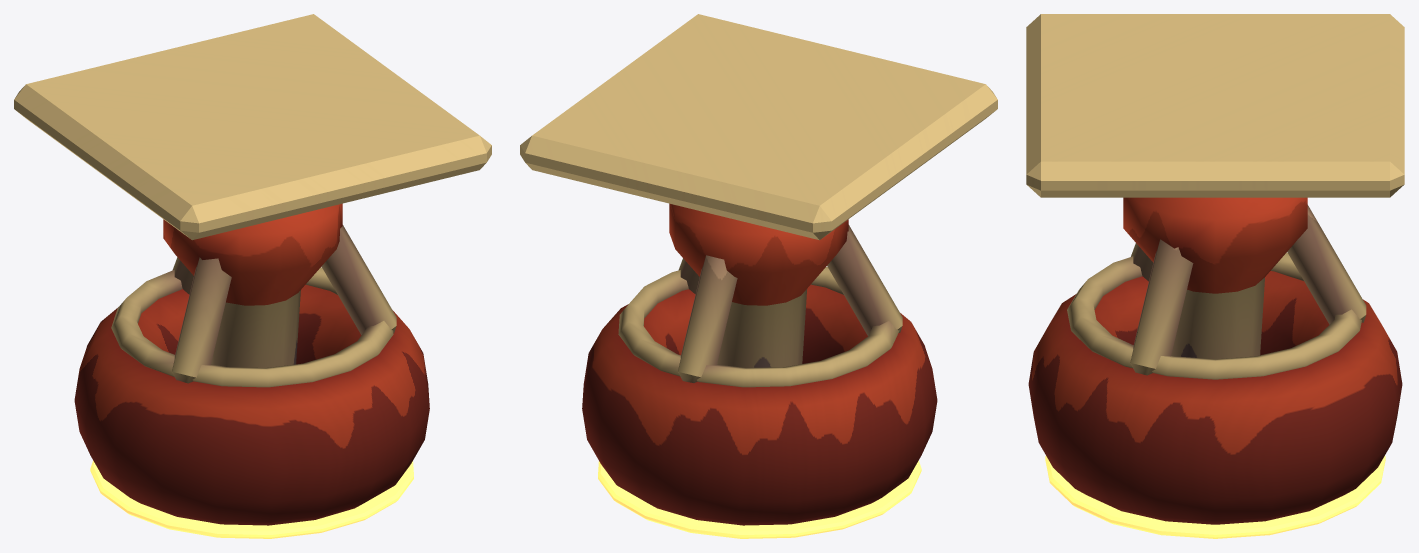
The model's file is R4M_HoverEngine_LOD1.glb.
3 renders of one model, left to right at view 1: azimuth 30°, elevation 25°; view 2: azimuth 150°, elevation 25°; view 3: azimuth 270°, elevation 25°, orthographic. The views are drawn at different scales.
Visible parts, largest first — view 1: R4M_HoverEngine_LOD1; view 2: R4M_HoverEngine_LOD1; view 3: R4M_HoverEngine_LOD1.
Boxes of the visible parts, x1,y1,x2,y2 form: R4M_HoverEngine_LOD1: (14, 14, 491, 538); R4M_HoverEngine_LOD1: (520, 14, 997, 538); R4M_HoverEngine_LOD1: (1026, 14, 1404, 538).
Bounding box in the file's own units: 0.52 × 0.577 × 0.52.
Materials: 4 (3 with a texture image).
